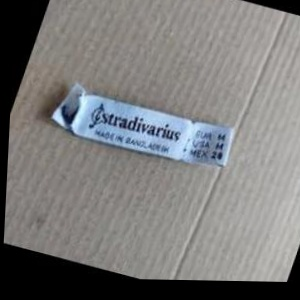stradivarius: (153, 42, 229, 152)
